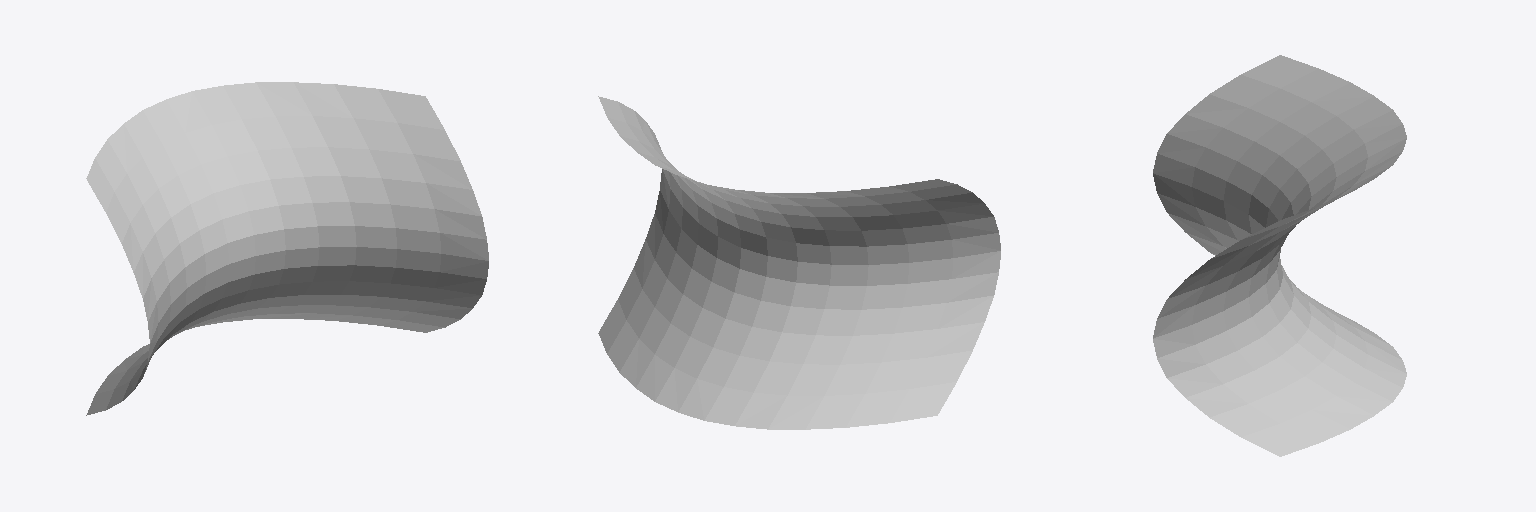
The model's file is parabhyp.obj.
3 renders of one model, left to right at view 1: azimuth 30°, elevation 25°; view 2: azimuth 150°, elevation 25°; view 3: azimuth 270°, elevation 25°, orthographic.
Visible parts, largest first — view 1: parabhyp, parabhyp.001; view 2: parabhyp, parabhyp.001; view 3: parabhyp, parabhyp.001.
Boxes of the visible parts, box(x1,y1,x2,y2) form: parabhyp: box(86, 82, 488, 414); parabhyp.001: box(86, 82, 488, 415); parabhyp: box(598, 96, 1000, 429); parabhyp.001: box(599, 97, 1000, 429); parabhyp: box(1153, 55, 1406, 456); parabhyp.001: box(1153, 56, 1406, 455).
Bounding box in the file's own units: 3.6 × 2.4 × 2.34.